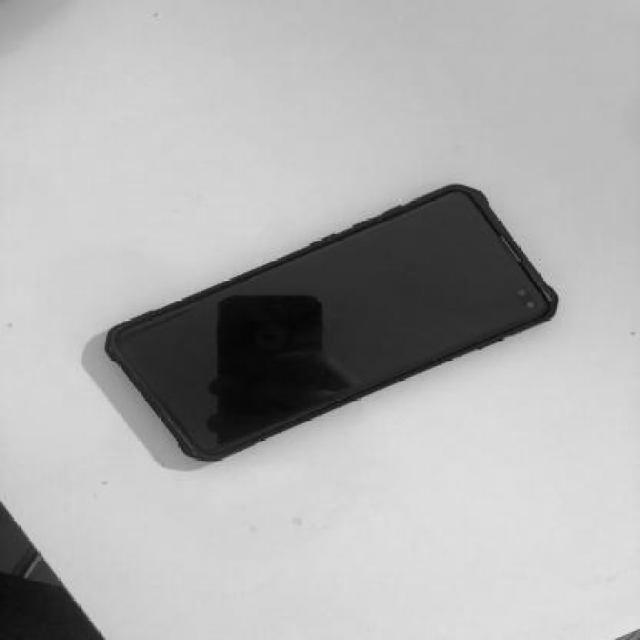fake: (104, 179, 560, 467)
